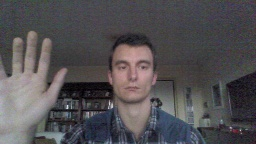Mano_aperta: (0, 28, 68, 140)
